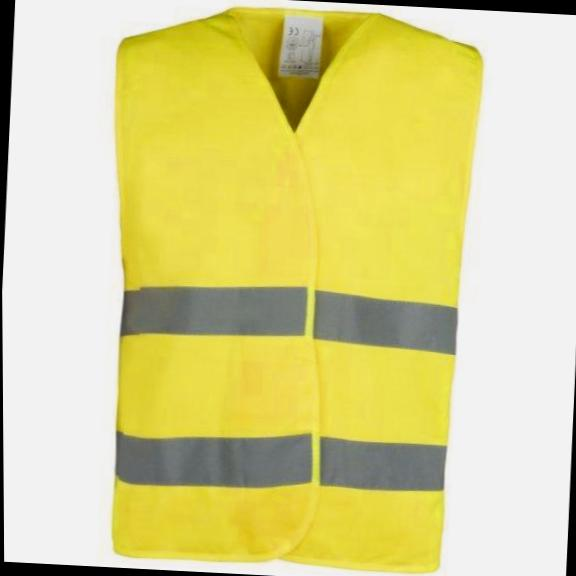safety_vest: (89, 0, 494, 574)
